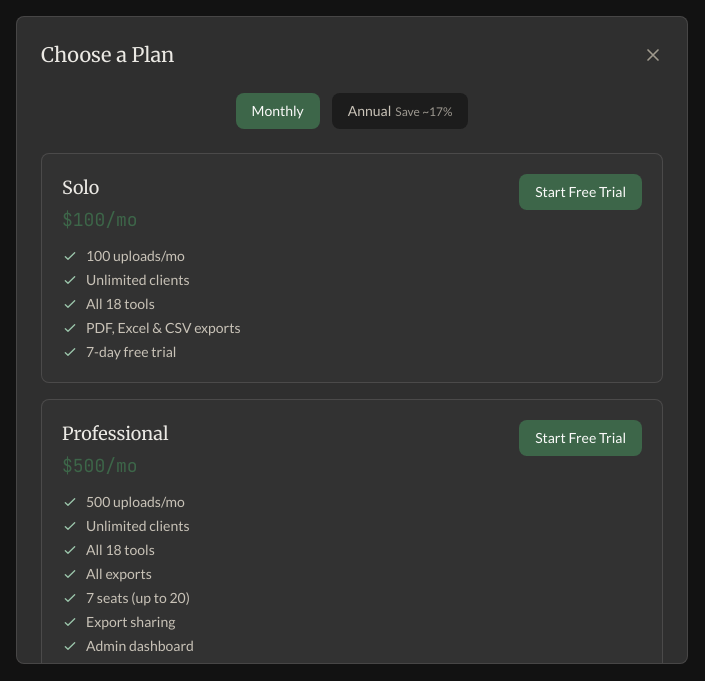
UpgradeModal › shows annual prices after toggle
Step 1. Click the button "Annual" → point(400, 111), box [332,93,468,129]
(page scrolled)
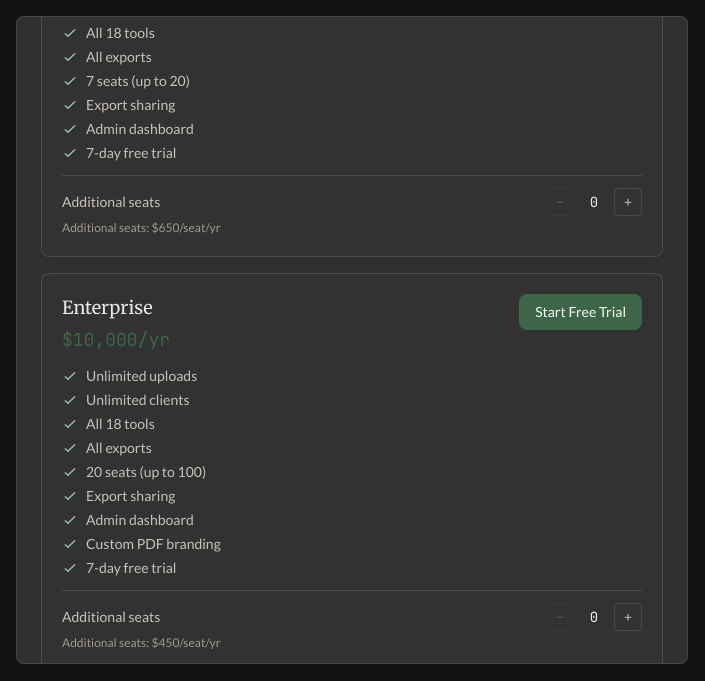
Now the text "$10,000/yr" is shown, box [62,328,170,351]
